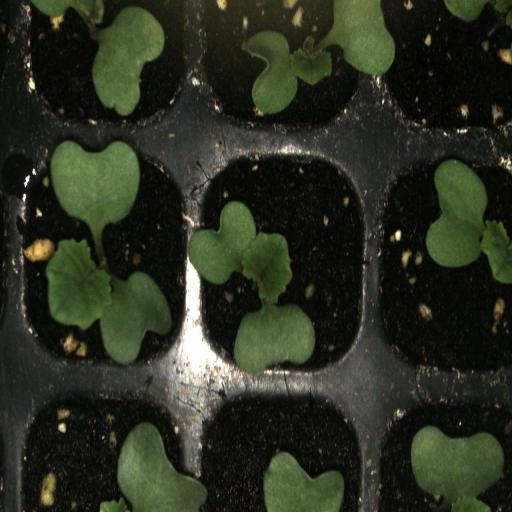seedling: (193, 133, 374, 384), (11, 132, 193, 377), (194, 0, 375, 133)
